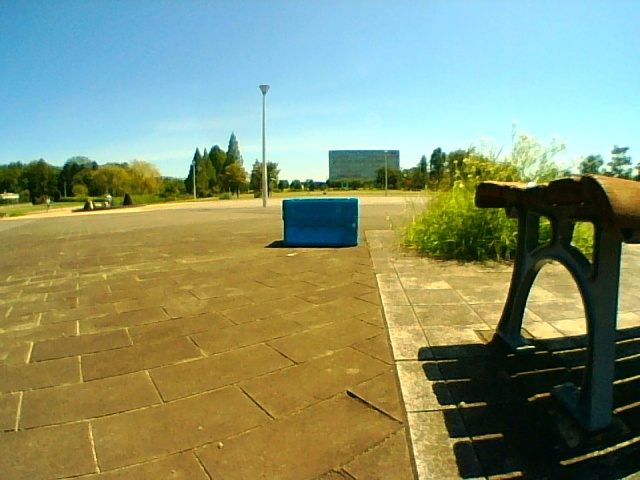blue_box: (283, 199, 357, 245)
